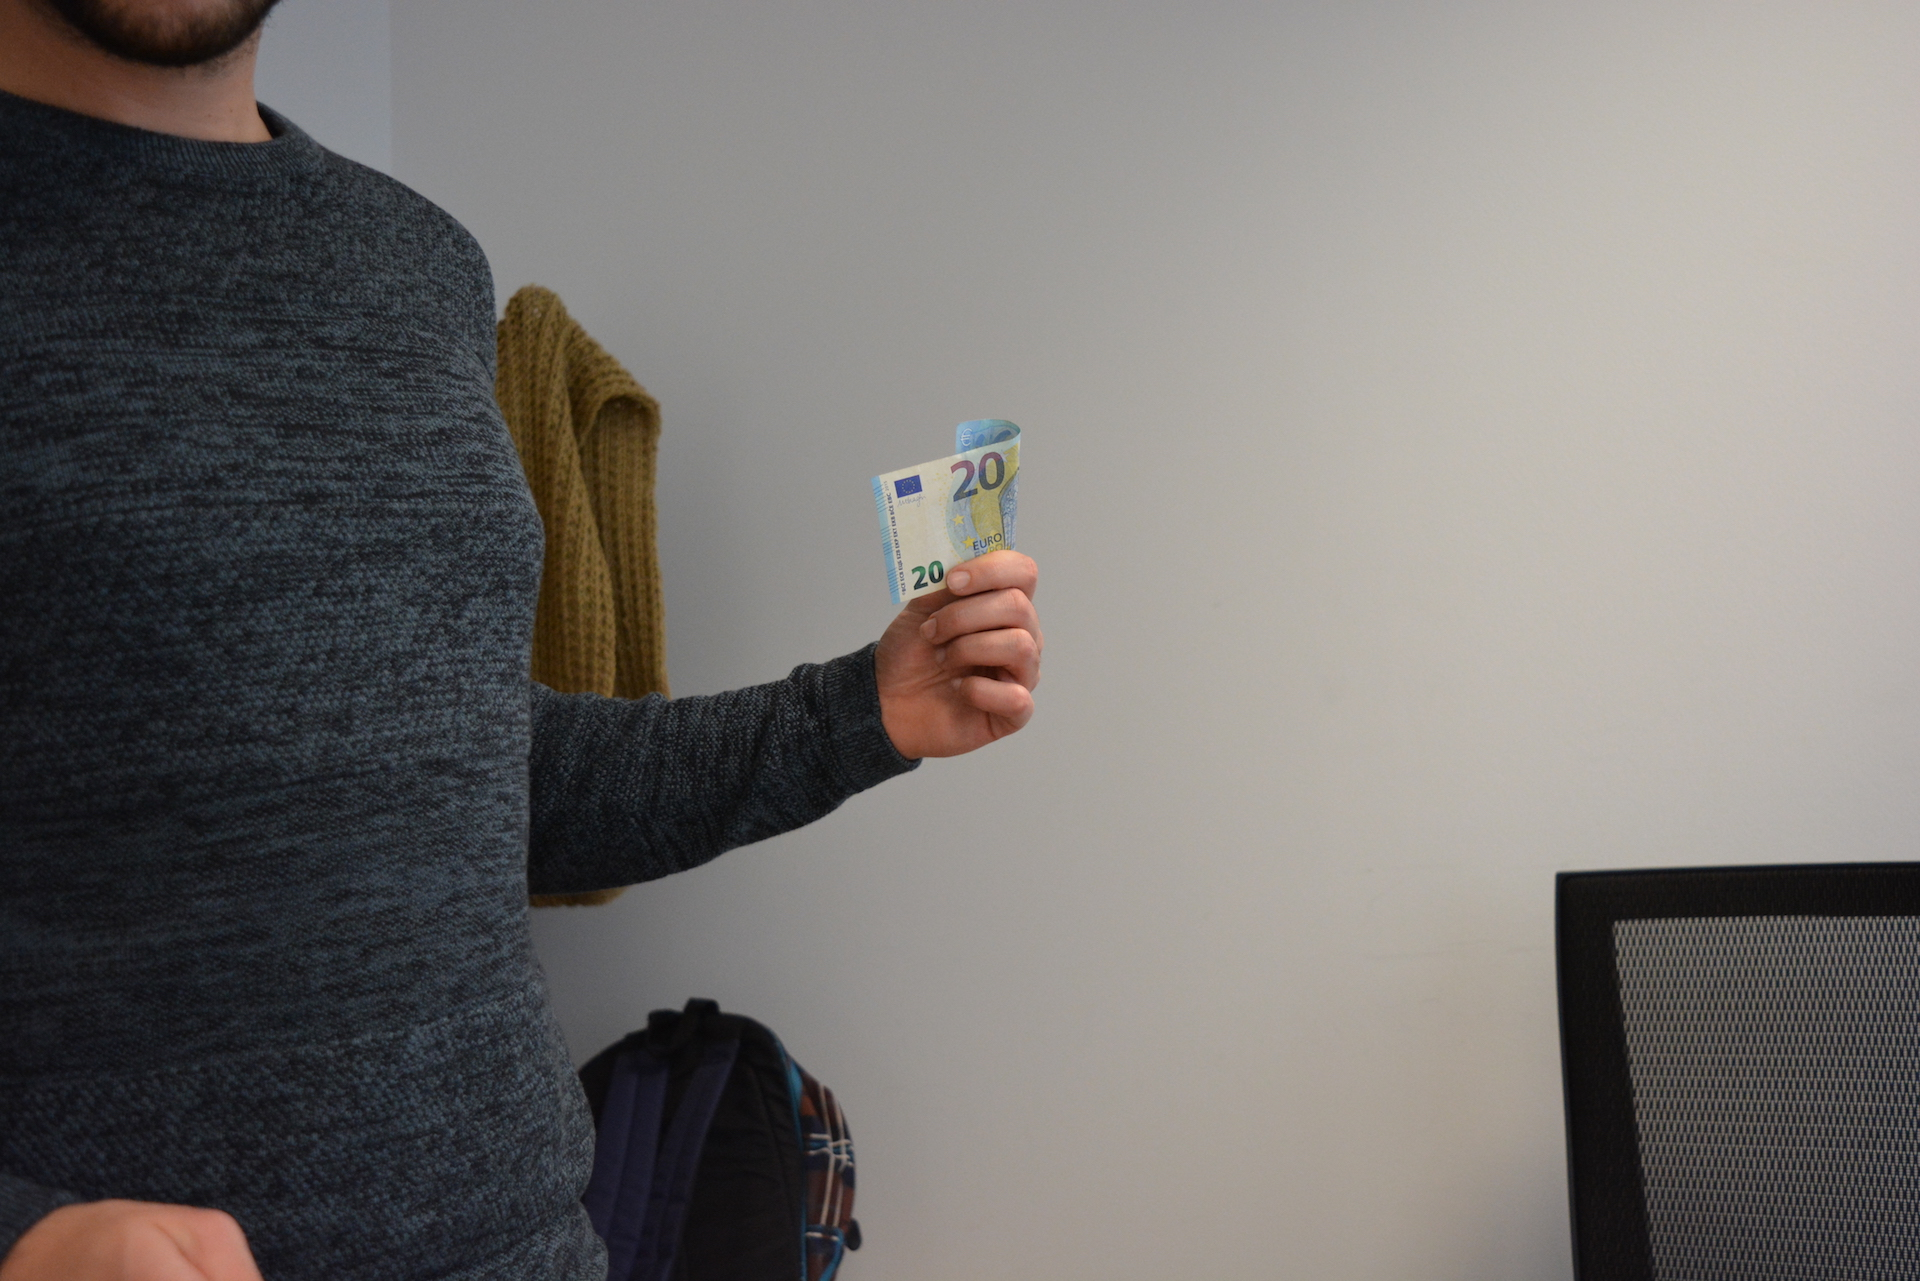billete: (869, 417, 1024, 609)
